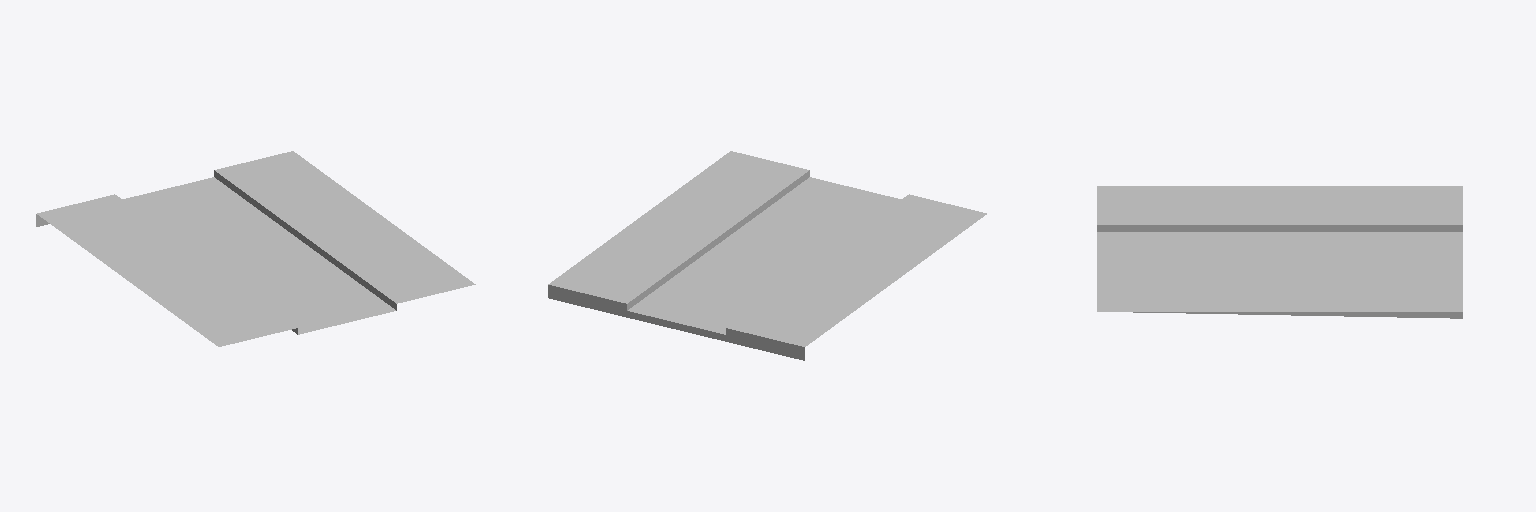
The model's file is path_1.obj.
The picture shows the model from 3 angles: view 1: azimuth 30°, elevation 25°; view 2: azimuth 150°, elevation 25°; view 3: azimuth 270°, elevation 25°; orthographic projection.
Visible parts, largest first — view 1: path; view 2: path; view 3: path.
Boxes of the visible parts, <box> form: path: <box>36,151,475,346</box>; path: <box>548,151,986,360</box>; path: <box>1097,186,1462,318</box>.
Bounding box in the file's own units: 39 × 2 × 48.